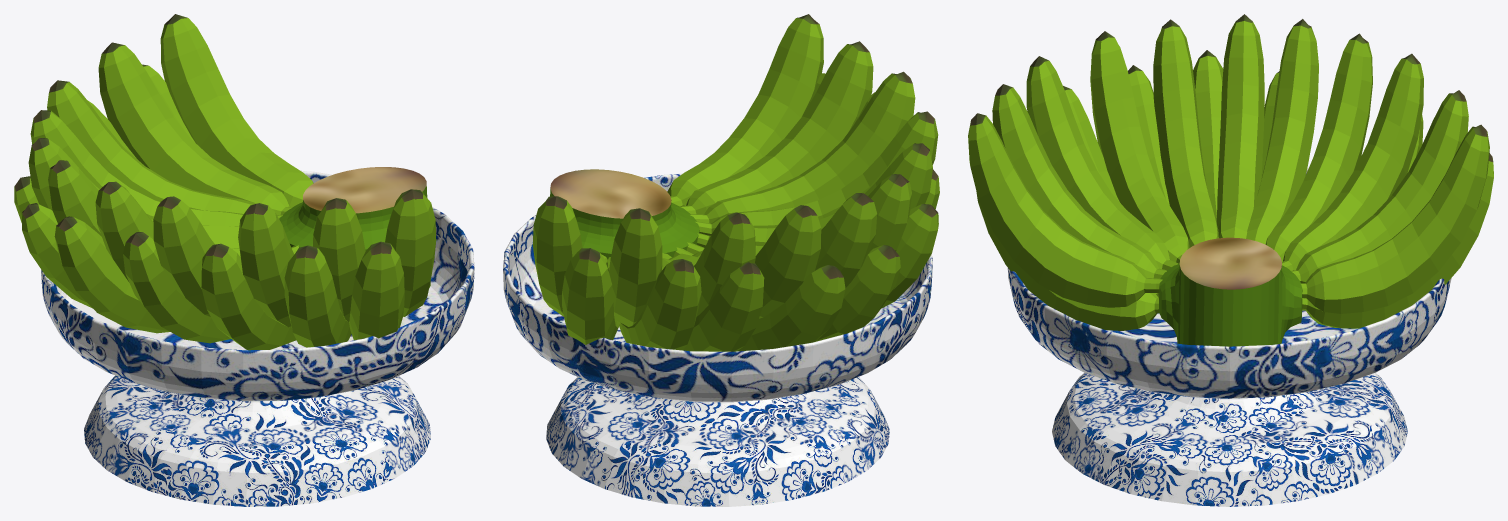
Rendered from tray.fbx.
3 renders of one model, left to right at view 1: azimuth 30°, elevation 25°; view 2: azimuth 150°, elevation 25°; view 3: azimuth 270°, elevation 25°, orthographic. The views are drawn at different scales.
Visible parts, largest first — view 1: Banana, Tray; view 2: Banana, Tray; view 3: Banana, Tray.
Boxes of the visible parts, left/top/right/bottom form: Banana: left=14, top=14, right=436, bottom=350; Tray: left=41, top=170, right=474, bottom=506; Banana: left=532, top=14, right=939, bottom=351; Tray: left=503, top=173, right=932, bottom=506; Banana: left=968, top=14, right=1493, bottom=346; Tray: left=1007, top=166, right=1451, bottom=506.
Size of the model in its own units: 488 by 381 by 543.
2 materials, 2 textured.
